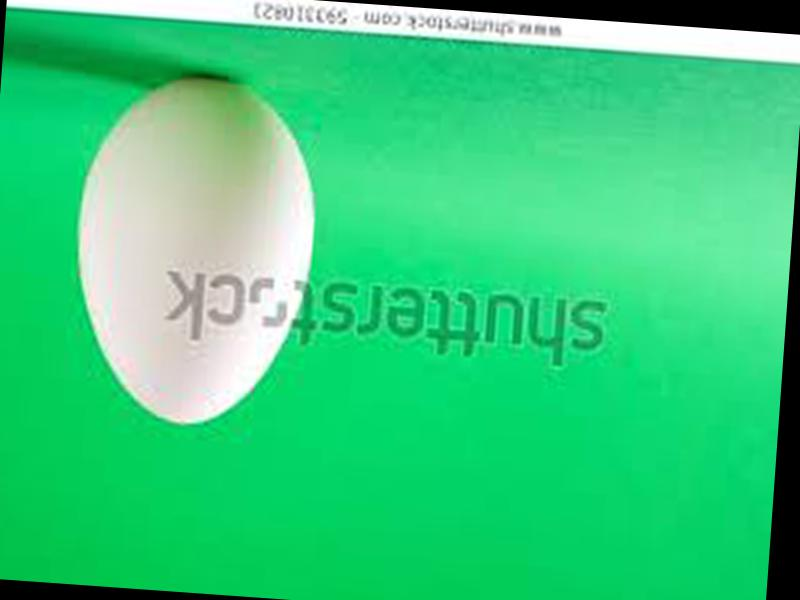Eggs: (63, 63, 323, 430)
